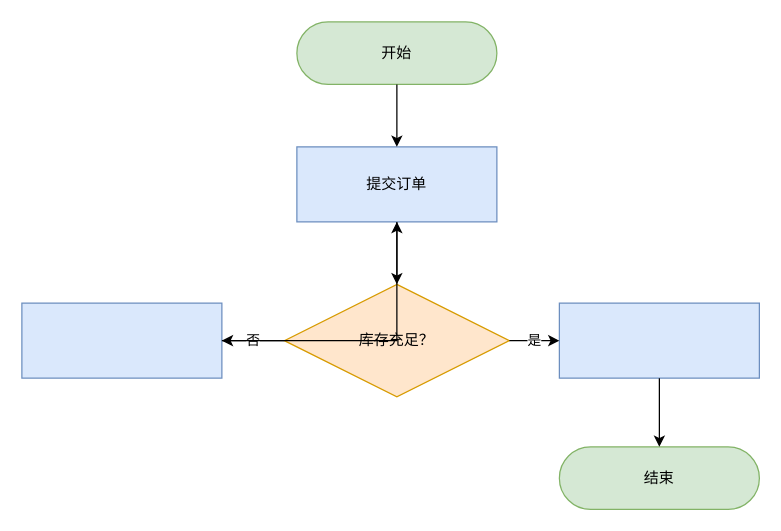
This 781x531 diagram has some shape labels left out. The shapes that lost their labels are listed below. From the top down, each one's centre as x and y in pixels, then its label:
the point at 121,340: 通知补货
the point at 658,340: 生成发货单
